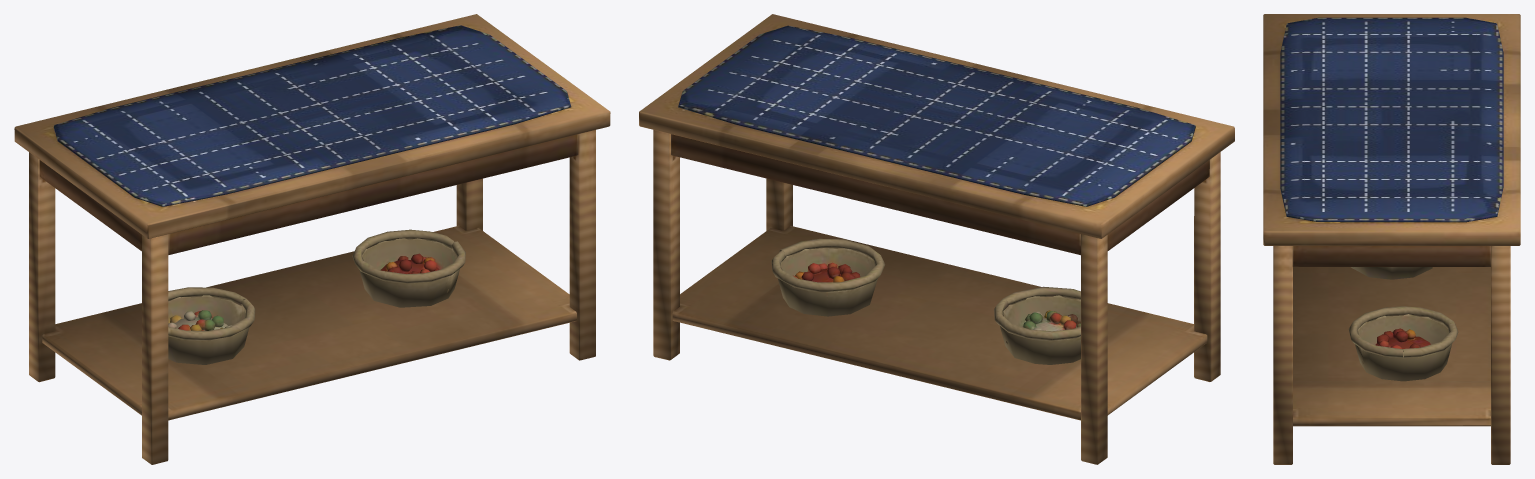
The model's file is work_table_indigo.glb.
3 views of the same model, side by side, from view 1: azimuth 30°, elevation 25°; view 2: azimuth 150°, elevation 25°; view 3: azimuth 270°, elevation 25° (orthographic). The views are drawn at different scales.
Visible parts, largest first — view 1: prop_work_table_indigo_wood, prop_work_table_indigo_felt; view 2: prop_work_table_indigo_wood, prop_work_table_indigo_felt; view 3: prop_work_table_indigo_wood, prop_work_table_indigo_felt.
Boxes of the visible parts, box(x1,y1,x2,y2) form: prop_work_table_indigo_wood: box(14, 14, 610, 464); prop_work_table_indigo_felt: box(53, 25, 571, 364); prop_work_table_indigo_wood: box(639, 14, 1234, 464); prop_work_table_indigo_felt: box(678, 25, 1195, 364); prop_work_table_indigo_wood: box(1263, 14, 1520, 464); prop_work_table_indigo_felt: box(1280, 17, 1503, 381).
Size of the model in its own units: 1.8 by 0.937 by 0.8991.
2 materials, 2 textured.
